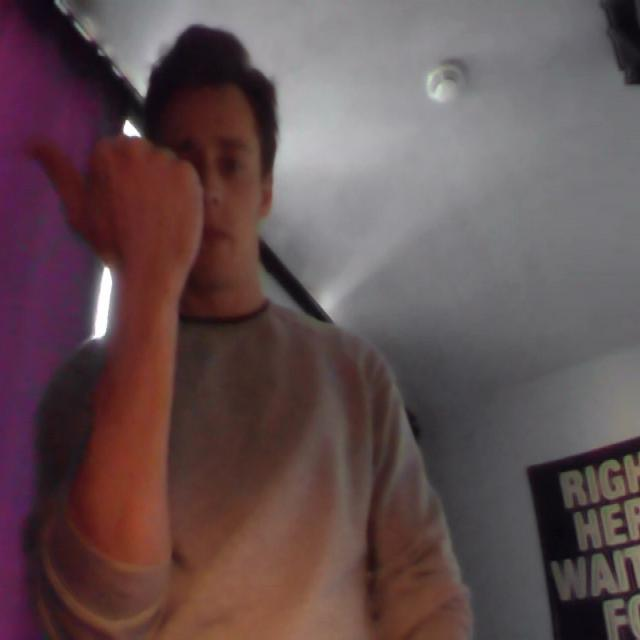left: (11, 113, 219, 301)
